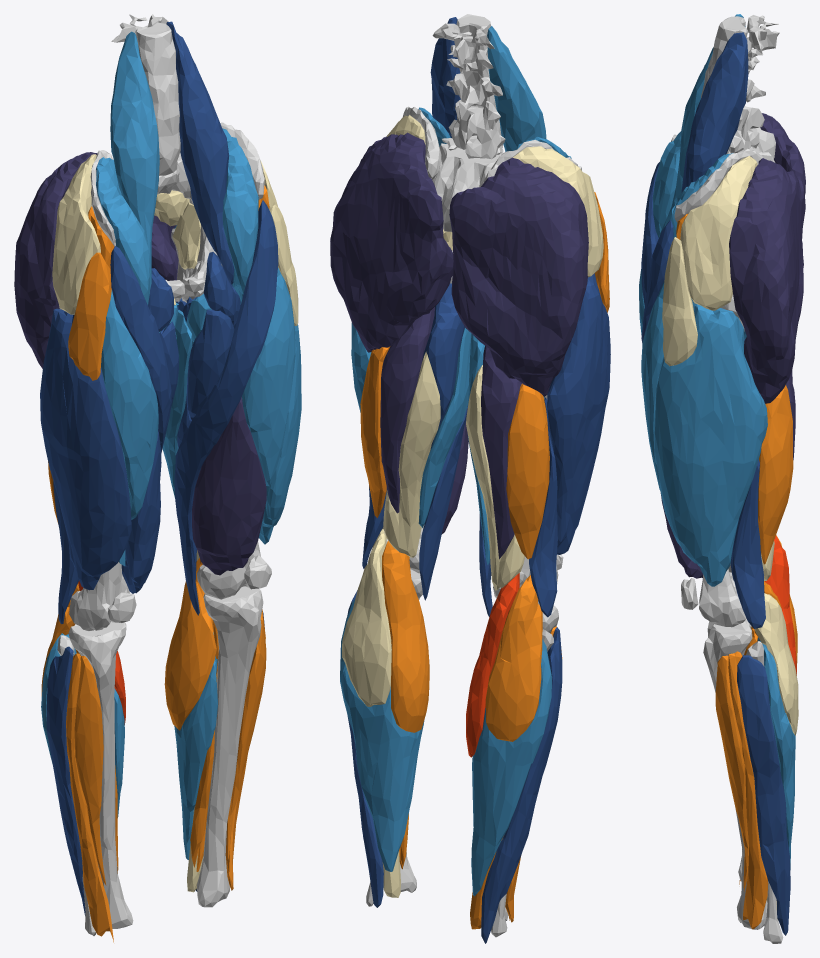
File: SBscore1.glb
The picture shows the model from 3 angles, left to right: view 1: azimuth 30°, elevation 25°; view 2: azimuth 150°, elevation 25°; view 3: azimuth 270°, elevation 25°; orthographic projection. The views are drawn at different scales.
Visible parts, largest first — view 1: Proactive_5_vetted_L_adductor_brevis; view 2: Proactive_5_vetted_L_adductor_brevis; view 3: Proactive_5_vetted_L_adductor_brevis.
Part boxes in pixels (x1,y1,x2,y2): Proactive_5_vetted_L_adductor_brevis: (14, 14, 301, 942); Proactive_5_vetted_L_adductor_brevis: (330, 14, 610, 943); Proactive_5_vetted_L_adductor_brevis: (639, 14, 805, 943).
Size of the model in its own units: 3.77 by 13.4 by 2.28.
